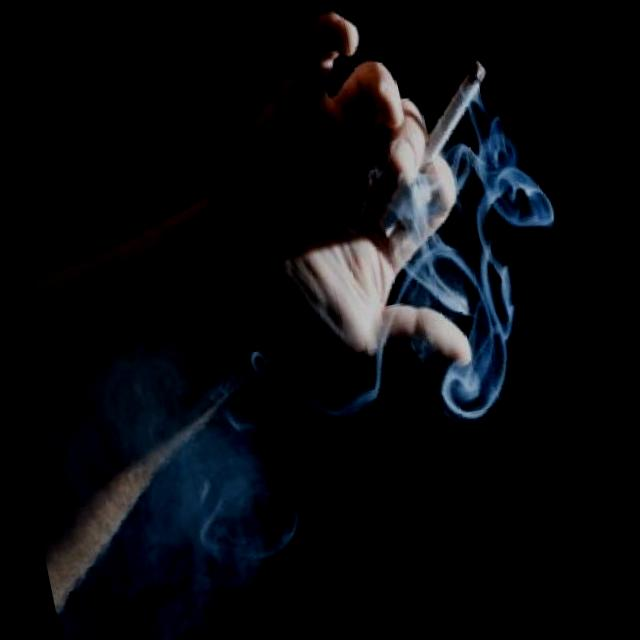cigarette: (346, 55, 519, 244)
